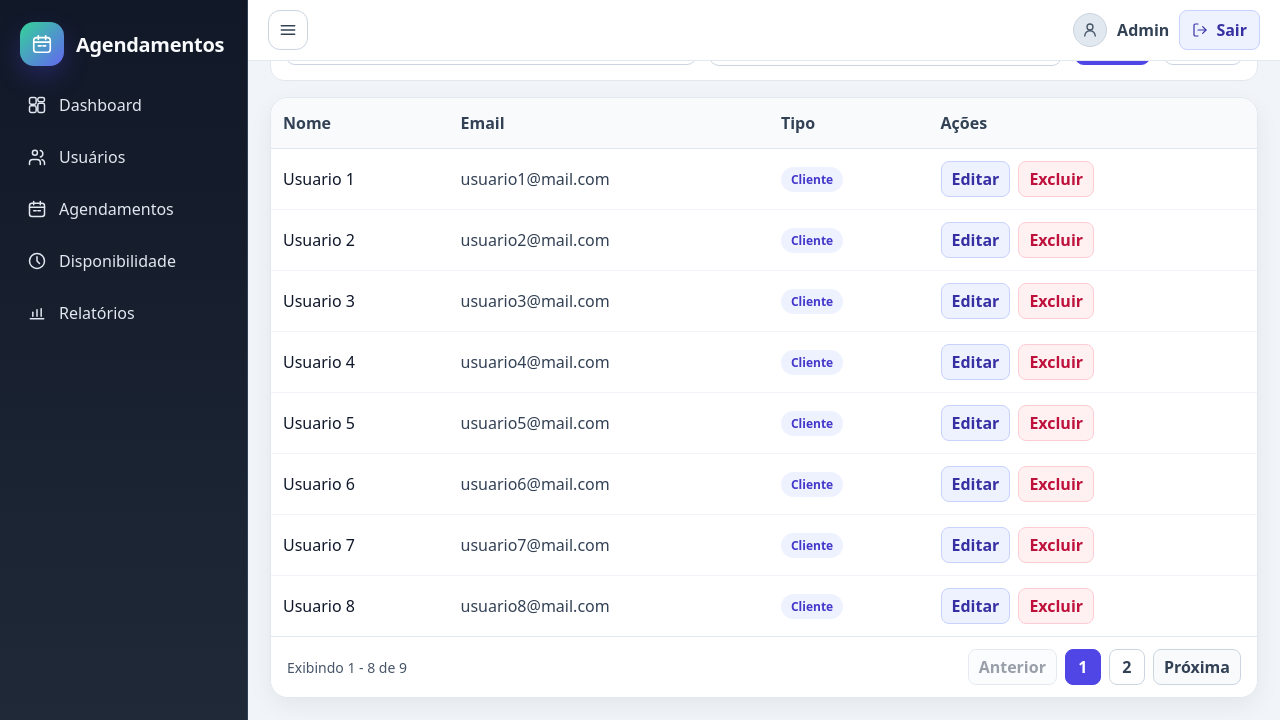
Test case: Usuarios (RQF1.1) › exibe paginação e navega entre páginas
The width and height of the screenshot is (1280, 720).
(page scrolled)
Expected: the text "Exibindo 1 - 8 de 9" is shown, [287,658,407,676]
Click the button "Próxima": (1197, 667) [1153,649,1241,685]
(page scrolled)
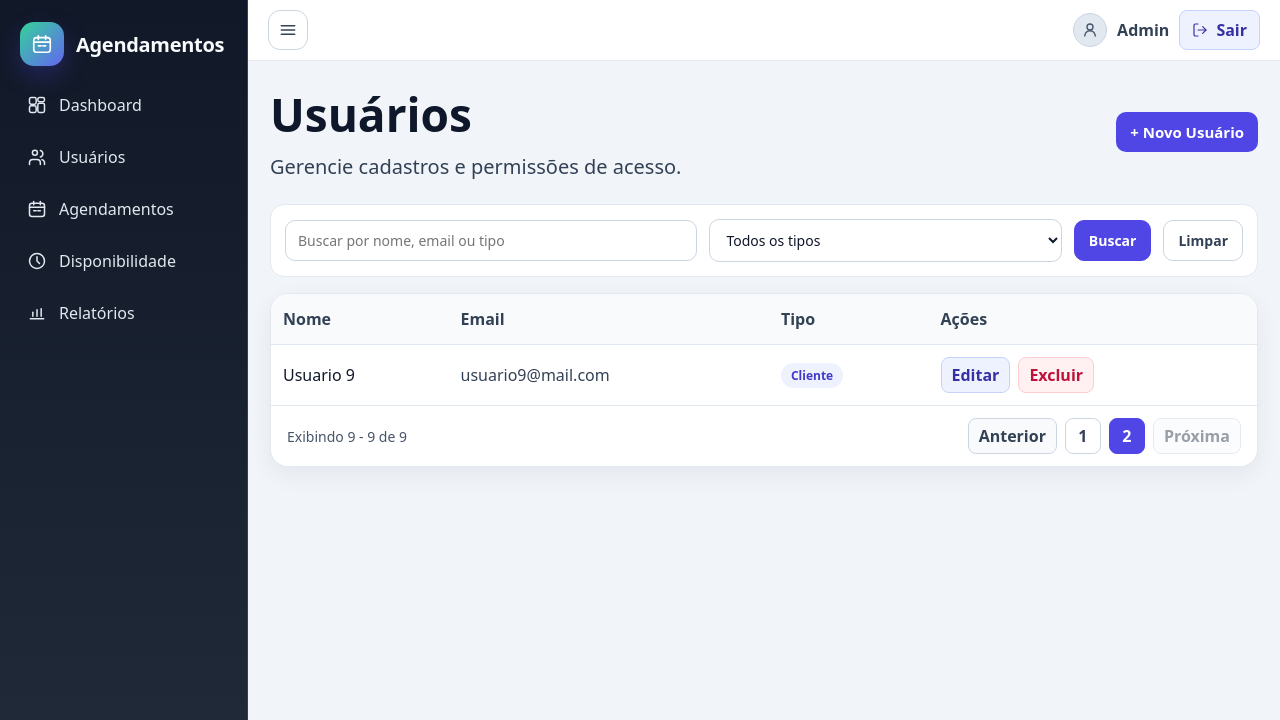
Expected: the text "Exibindo 9 - 9 de 9" is shown, [287,426,407,446]
Expected: the text "usuario9@mail.com" is shown, [448,344,769,405]
